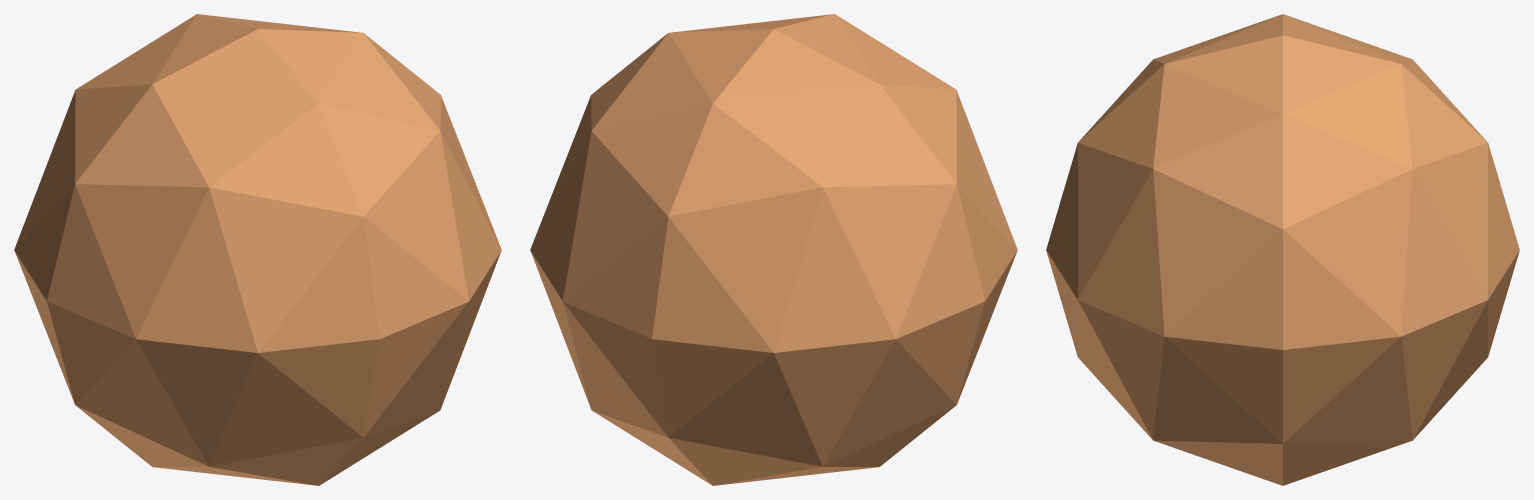
Rendered from planet08.FBX.
3 renders of one model, left to right at view 1: azimuth 30°, elevation 25°; view 2: azimuth 150°, elevation 25°; view 3: azimuth 270°, elevation 25°, orthographic. The views are drawn at different scales.
Visible parts, largest first — view 1: planet08; view 2: planet08; view 3: planet08.
Part boxes in pixels (left/top/right/bottom): planet08: left=14, top=14, right=501, bottom=485; planet08: left=530, top=14, right=1017, bottom=485; planet08: left=1046, top=14, right=1519, bottom=485.
Size of the model in its own units: 6.77 by 6.77 by 6.77.
